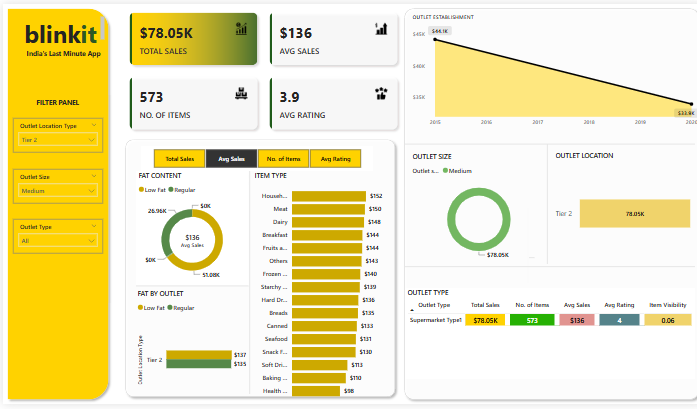

This screenshot's page, from the dashboard's own definition file:
{"tool":"powerbi","page":{"name":"Page 1","canvas":[1400,800],"ordinal":0},"visuals":[{"type":"shape","box":[0,0,220,800],"z":0},{"type":"textbox","box":[268.1,250,147.2,500],"z":1000},{"type":"textbox","box":[29.2,20.8,177.8,63.9],"z":2000},{"type":"textbox","box":[31.9,84.7,177.8,31.9],"z":3000},{"type":"cardVisual","fields":{"Data":["BlinkIT Grocery Data.Total Sales","BlinkIT Grocery Data.Avg Sales","BlinkIT Grocery Data.No. of Items","BlinkIT Grocery Data.Avg Rating"]},"box":[236.7,0,571.4,269.4],"z":4000},{"type":"shape","box":[236.7,261.2,557.1,532.7],"z":5000},{"type":"donutChart","title":"FAT CONTENT","fields":{"Y":["BlinkIT Grocery Data.Total Sales","Sum(BlinkIT Grocery Data.Sales)"],"Category":["BlinkIT Grocery Data.Item Fat Content"]},"box":[265.2,333.3,224.6,230.4],"z":6000},{"type":"slicer","fields":{"Values":["Metrics 2.Metrics"]},"box":[275,283.9,464.3,50],"z":7000},{"type":"cardVisual","fields":{"Data":["BlinkIT Grocery Data.Total Sales"]},"box":[319.6,439.3,117.9,60.7],"z":8000},{"type":"clusteredBarChart","title":"FAT BY OUTLET","fields":{"Y":["BlinkIT Grocery Data.Total Sales"],"Series":["BlinkIT Grocery Data.Item Fat Content"],"Category":["BlinkIT Grocery Data.Outlet Location Type"]},"box":[263.8,569.6,227.5,230.4],"z":9000},{"type":"shape","box":[928.9,408.9,244.4,148.9],"z":10000},{"type":"shape","box":[487.5,333.9,10.7,446.4],"z":11000},{"type":"barChart","title":"ITEM TYPE","fields":{"Y":["BlinkIT Grocery Data.Total Sales"],"Category":["BlinkIT Grocery Data.Item Type"]},"box":[498.2,333.9,267.9,466.1],"z":12000},{"type":"shape","box":[793.3,0,606.7,800],"z":13000},{"type":"lineChart","title":"OUTLET ESTABLISHMENT","fields":{"Y":["BlinkIT Grocery Data.Total Sales"],"Category":["BlinkIT Grocery Data.Outlet Establishment Year"]},"box":[813.3,17.8,580,235.6],"z":14000},{"type":"shape","box":[265.2,558,224.6,11.6],"z":15000},{"type":"shape","box":[1051.1,284.4,11.1,446.7],"z":16000},{"type":"shape","box":[804.4,268.9,580,24.4],"z":17000},{"type":"donutChart","title":"OUTLET SIZE","fields":{"Y":["BlinkIT Grocery Data.Total Sales"],"Category":["BlinkIT Grocery Data.Outlet Size"]},"box":[813.3,295.6,275.6,224.4],"z":18000},{"type":"shape","box":[1082.2,280,13.3,240],"z":19000},{"type":"funnel","title":" OUTLET LOCATION","fields":{"Y":["Sum(BlinkIT Grocery Data.Sales)"],"Category":["BlinkIT Grocery Data.Outlet Location Type"]},"box":[1100,293.3,284.4,231.1],"z":20000},{"type":"shape","box":[804.4,511.1,580,26.7],"z":21000},{"type":"pivotTable","title":"OUTLET TYPE","fields":{"Rows":["BlinkIT Grocery Data.Outlet Type"],"Values":["BlinkIT Grocery Data.Total Sales","BlinkIT Grocery Data.No. of Items","BlinkIT Grocery Data.Avg Sales","BlinkIT Grocery Data.Avg Rating","Avg(BlinkIT Grocery Data.Item Visibility)"]},"box":[804.4,568.9,580,182.2],"z":22000},{"type":"slicer","fields":{"Values":["BlinkIT Grocery Data.Outlet Location Type"]},"box":[20.4,228.6,179.6,69.4],"z":23000},{"type":"slicer","fields":{"Values":["BlinkIT Grocery Data.Outlet Size"]},"box":[20.4,330.6,179.6,69.4],"z":24000},{"type":"slicer","fields":{"Values":["BlinkIT Grocery Data.Outlet Type"]},"box":[20.4,430.6,179.6,69.4],"z":25000},{"type":"textbox","box":[20,181.7,178.3,31.7],"z":26000}]}

Visuals, with their boxes in screenshot pixels (x1, y1, x2, y2), scaled from the page's 1400x800 canvas onto the 697x409 screenshot:
shape: box=[0, 0, 110, 408]
textbox: box=[133, 128, 207, 383]
textbox: box=[15, 11, 103, 43]
textbox: box=[16, 43, 104, 60]
cardVisual - BlinkIT Grocery Data.Total Sales x BlinkIT Grocery Data.Avg Sales: box=[118, 0, 402, 138]
shape: box=[118, 134, 395, 406]
"FAT CONTENT" donutChart: box=[132, 170, 244, 288]
slicer - Metrics 2.Metrics: box=[137, 145, 368, 171]
cardVisual - BlinkIT Grocery Data.Total Sales: box=[159, 225, 218, 256]
"FAT BY OUTLET" clusteredBarChart: box=[131, 291, 245, 408]
shape: box=[462, 209, 584, 285]
shape: box=[243, 171, 248, 399]
"ITEM TYPE" barChart: box=[248, 171, 381, 408]
shape: box=[395, 0, 696, 408]
"OUTLET ESTABLISHMENT" lineChart: box=[405, 9, 694, 130]
shape: box=[132, 285, 244, 291]
shape: box=[523, 145, 529, 374]
shape: box=[400, 137, 689, 150]
"OUTLET SIZE" donutChart: box=[405, 151, 542, 266]
shape: box=[539, 143, 545, 266]
" OUTLET LOCATION" funnel: box=[548, 150, 689, 268]
shape: box=[400, 261, 689, 275]
"OUTLET TYPE" pivotTable: box=[400, 291, 689, 384]
slicer - BlinkIT Grocery Data.Outlet Location Type: box=[10, 117, 100, 152]
slicer - BlinkIT Grocery Data.Outlet Size: box=[10, 169, 100, 204]
slicer - BlinkIT Grocery Data.Outlet Type: box=[10, 220, 100, 256]
textbox: box=[10, 93, 99, 109]
